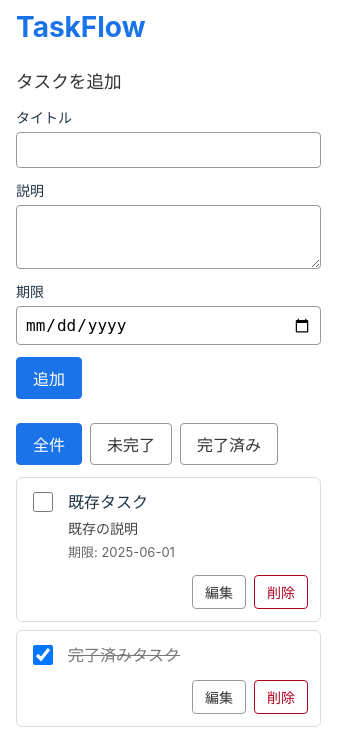
Test: App フィルタリング › 未完了 / 完了済みフィルターで表示されるタスクが絞り込まれる
Expected: the text "既存タスク" is shown, [68,492,148,512]
# 未完了フィルター
Click the button "未完了" at (131,444), box [90,423,172,465]
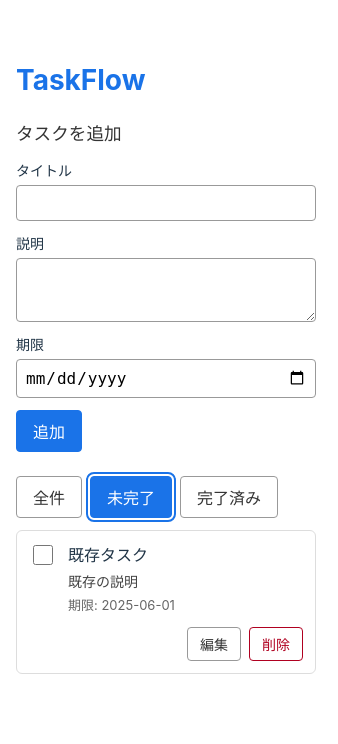
Expected: the text "既存タスク" is shown, [68,545,148,565]
Expected: the text "完了済みタスク" is gone
# 完了済みフィルター
Click the button "完了済み" at (229,497), box [180,476,278,518]
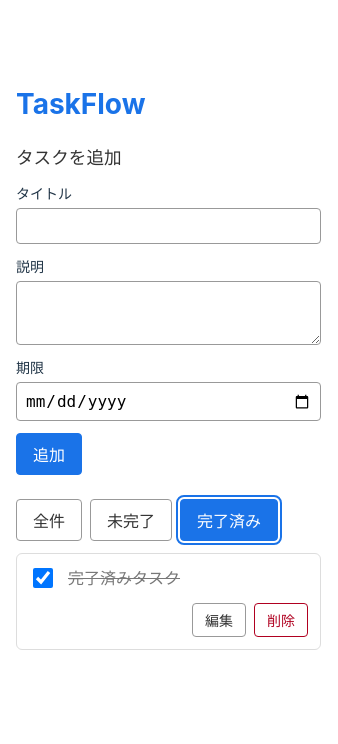
Expected: the text "完了済みタスク" is shown, [68,568,180,588]
Expected: the text "既存タスク" is gone
#  全件フィルター
Click the button "全件" at (49,520), box [16,500,82,542]
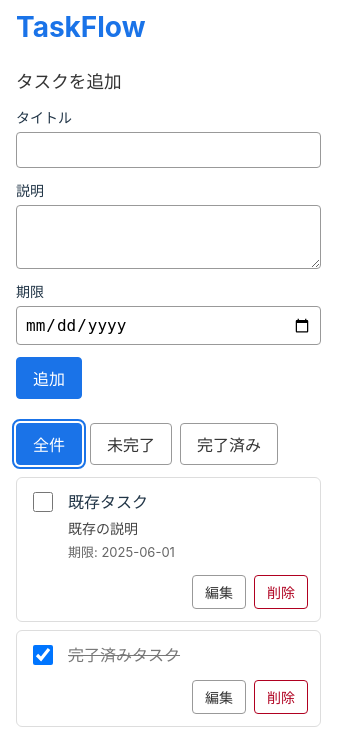
Expected: the text "完了済みタスク" is shown, [68,645,180,665]
Expected: the text "既存タスク" is shown, [68,492,148,512]
